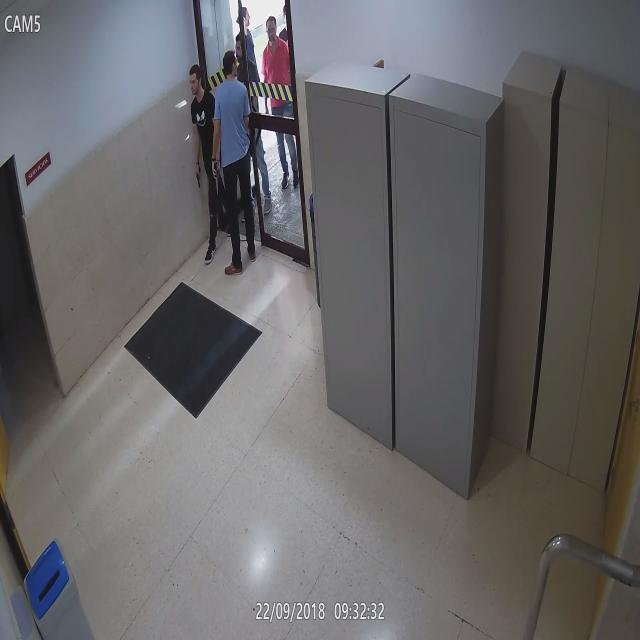Gun: (179, 153, 210, 200)
